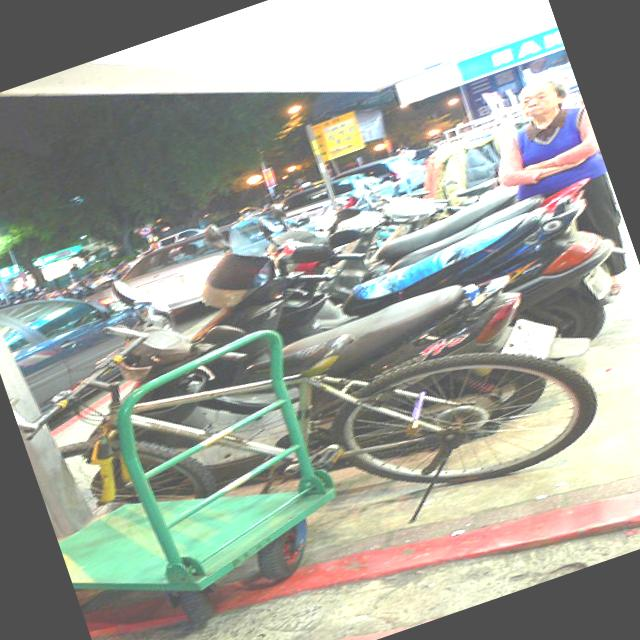Vehicle: (179, 153, 640, 459), (278, 240, 602, 449), (270, 148, 596, 302), (0, 253, 201, 460), (303, 170, 534, 306), (112, 192, 335, 327), (352, 166, 476, 258), (275, 160, 401, 236), (331, 143, 436, 214), (157, 224, 206, 248)
